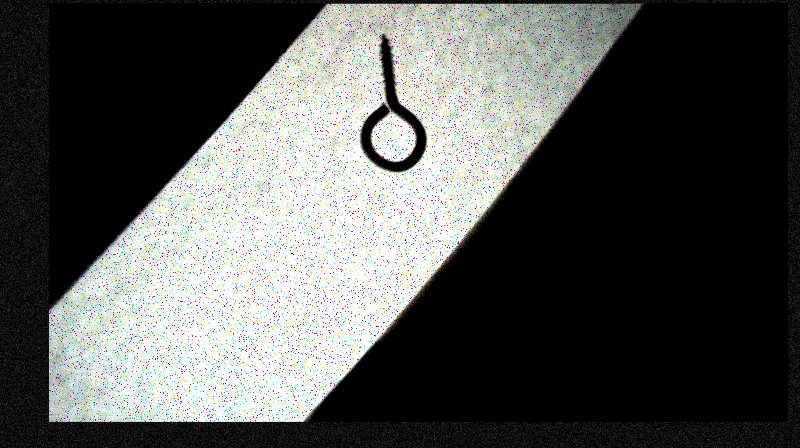O001: (354, 32, 429, 174)
